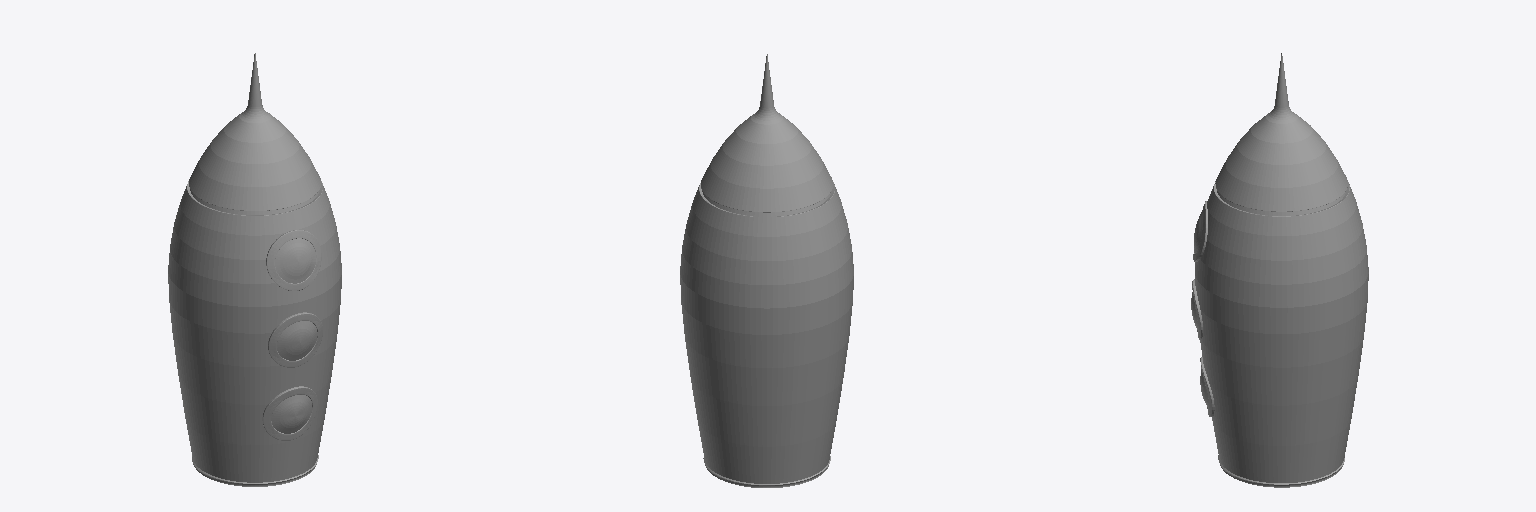
The model's file is rocket_top.obj.
The picture shows the model from 3 angles: view 1: azimuth 30°, elevation 25°; view 2: azimuth 150°, elevation 25°; view 3: azimuth 270°, elevation 25°; orthographic projection.
Visible parts, largest first — view 1: retro_rocket_rocket_body; view 2: retro_rocket_rocket_body; view 3: retro_rocket_rocket_body.
Boxes of the visible parts, x1,y1,x2,y2 form: retro_rocket_rocket_body: [168, 53, 341, 486]; retro_rocket_rocket_body: [680, 54, 853, 487]; retro_rocket_rocket_body: [1191, 53, 1368, 487].
Size of the model in its own units: 110 by 285 by 112.